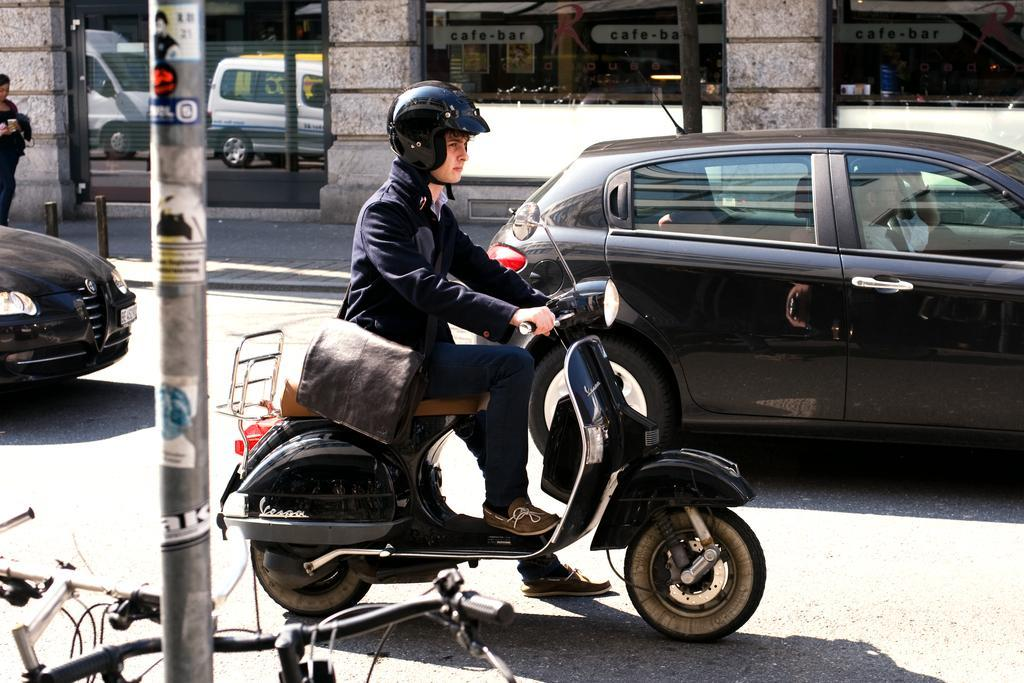helmet: (385, 78, 492, 202)
